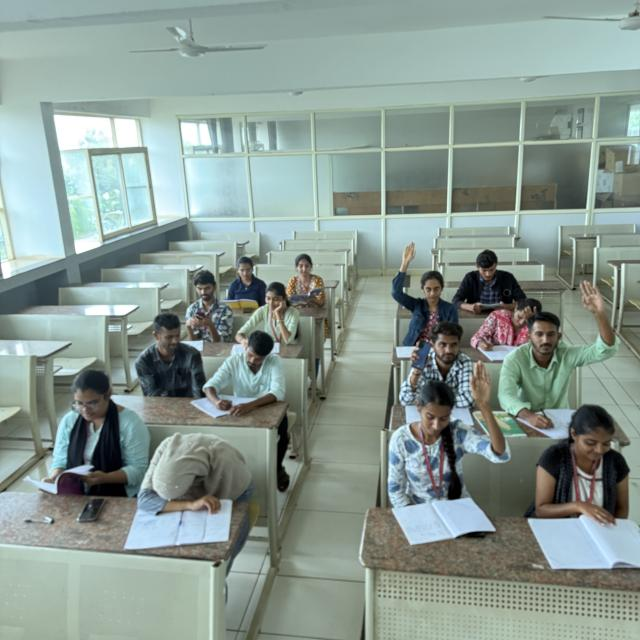Hand Rising: (392, 364, 510, 486), (511, 277, 618, 409), (388, 238, 452, 324)
Reading: (19, 364, 140, 492), (547, 414, 638, 546), (454, 249, 514, 312), (223, 256, 261, 308), (288, 255, 323, 305)
Sleeping: (138, 427, 240, 505)
Using Phone: (405, 327, 472, 398), (184, 265, 228, 336)
Writing: (196, 332, 282, 416), (238, 286, 298, 358), (473, 300, 544, 360)
